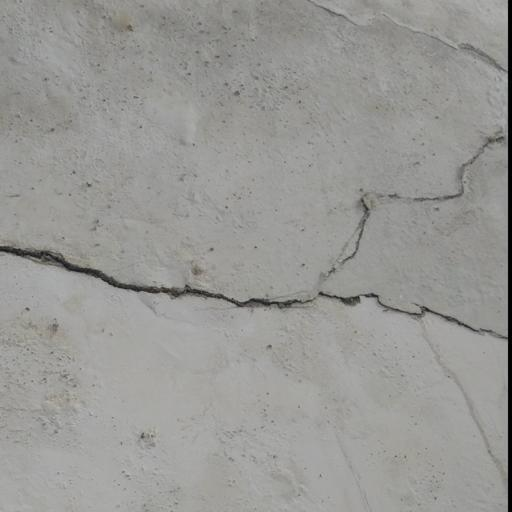major_crack: (0, 133, 503, 350)
